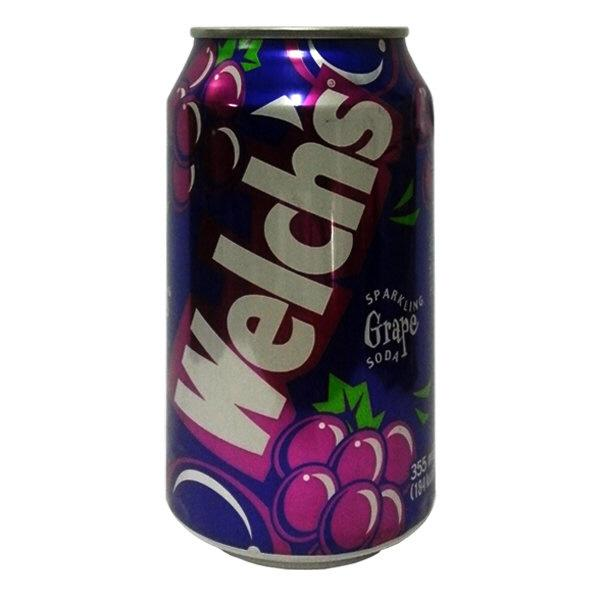welchs_grape: (159, 11, 438, 573)
